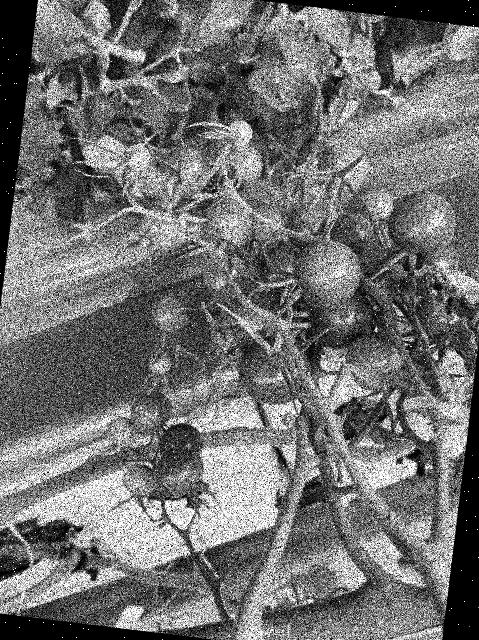l_fully_ripened: (306, 287, 376, 354), (157, 420, 204, 460)
l_green: (341, 330, 406, 395), (207, 304, 271, 368), (195, 193, 255, 256), (407, 289, 471, 346), (311, 139, 370, 200), (350, 247, 406, 309), (157, 143, 213, 200), (200, 249, 250, 302), (242, 200, 286, 252), (344, 183, 395, 227), (135, 206, 181, 254), (219, 142, 263, 188), (148, 290, 192, 333), (119, 462, 158, 496), (104, 415, 141, 450), (117, 142, 153, 176), (221, 118, 253, 150), (146, 349, 173, 376)
l_half_ripened: (234, 332, 315, 411), (289, 236, 364, 313), (383, 186, 459, 258), (386, 237, 460, 301), (148, 442, 206, 501), (250, 242, 299, 299), (325, 209, 377, 257), (127, 388, 174, 437), (282, 203, 327, 252)
